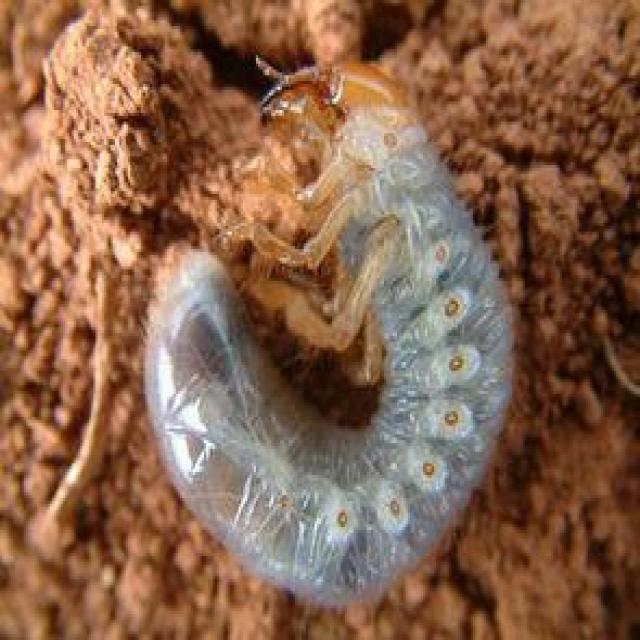Grub-Adult-: (135, 51, 523, 617)
